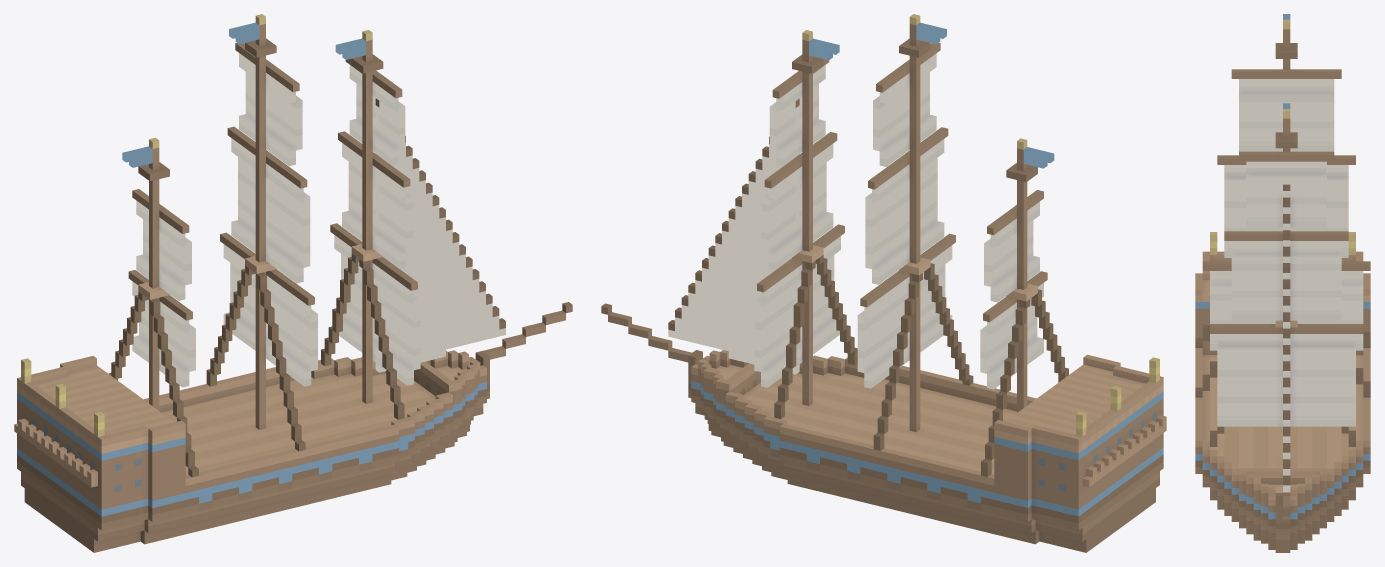
Rendered from galleon.glb.
3 renders of one model, left to right at view 1: azimuth 30°, elevation 25°; view 2: azimuth 150°, elevation 25°; view 3: azimuth 270°, elevation 25°, orthographic. The views are drawn at different scales.
Visible parts, largest first — view 1: galleon; view 2: galleon; view 3: galleon.
Boxes of the visible parts, x1,y1,x2,y2 form: galleon: (14,14,572,552); galleon: (601,14,1166,552); galleon: (1195,14,1370,552).
Size of the model in its own units: 3.9 by 3.3 by 1.2.
